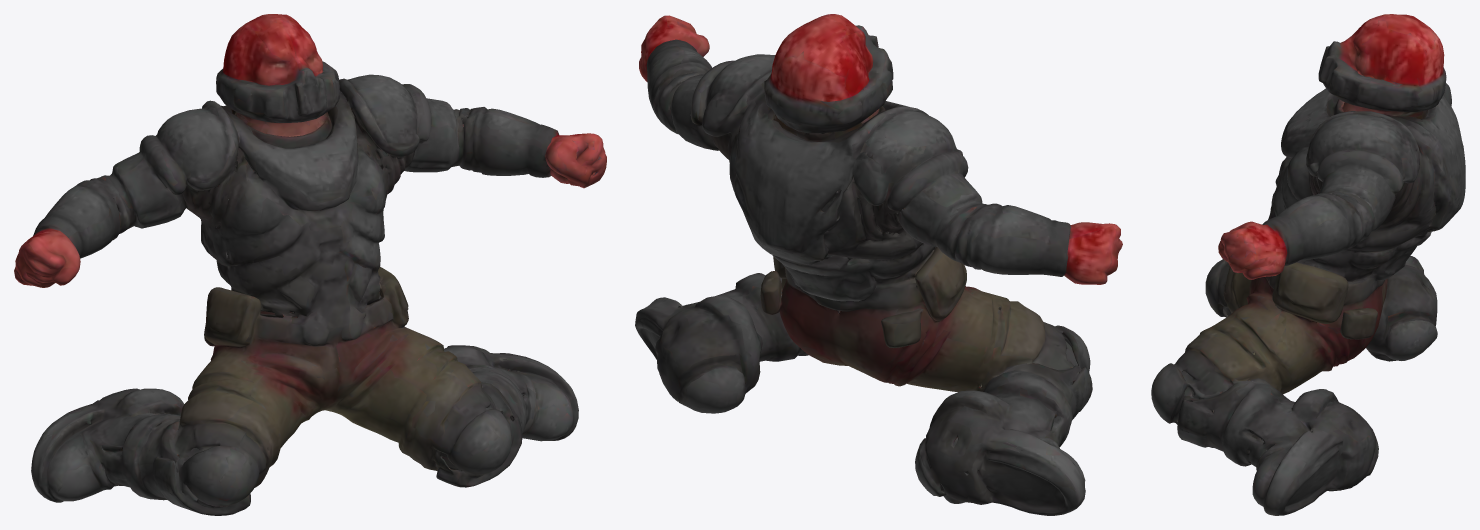
The model's file is SPOSJ0_2026-08-15T135345.273.glb.
3 renders of one model, left to right at view 1: azimuth 30°, elevation 25°; view 2: azimuth 150°, elevation 25°; view 3: azimuth 270°, elevation 25°, orthographic. The views are drawn at different scales.
Parts seen in each view (by area): view 1: world; view 2: world; view 3: world.
Part boxes in pixels (box(x1,y1,x2,y2)): world: box(14, 14, 606, 515); world: box(635, 14, 1122, 515); world: box(1151, 14, 1465, 515).
Bounding box in the file's own units: 1 × 0.7937 × 0.562.
Materials: 1 (1 with a texture image).
